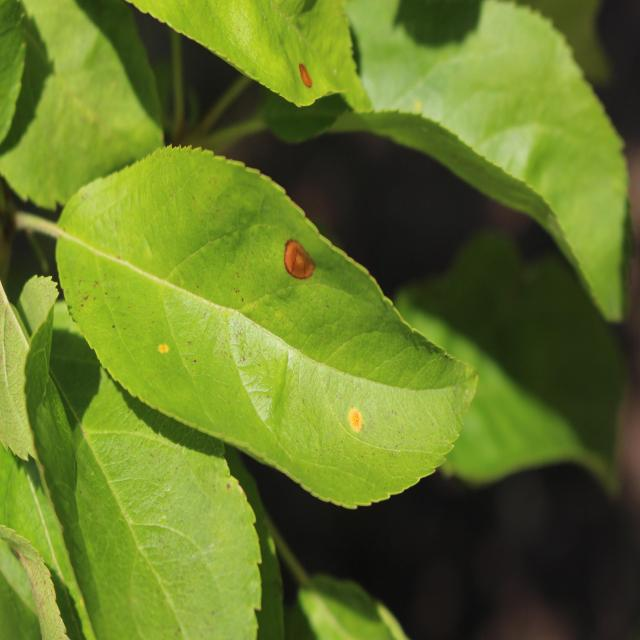rust: (55, 144, 480, 511)
